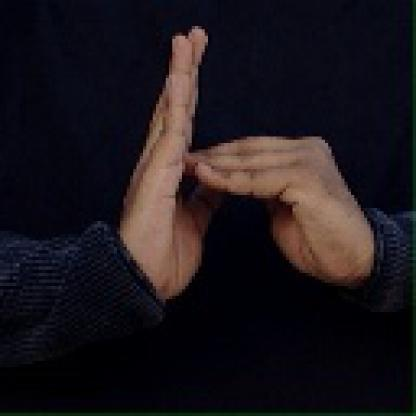Z: (118, 24, 354, 285)
